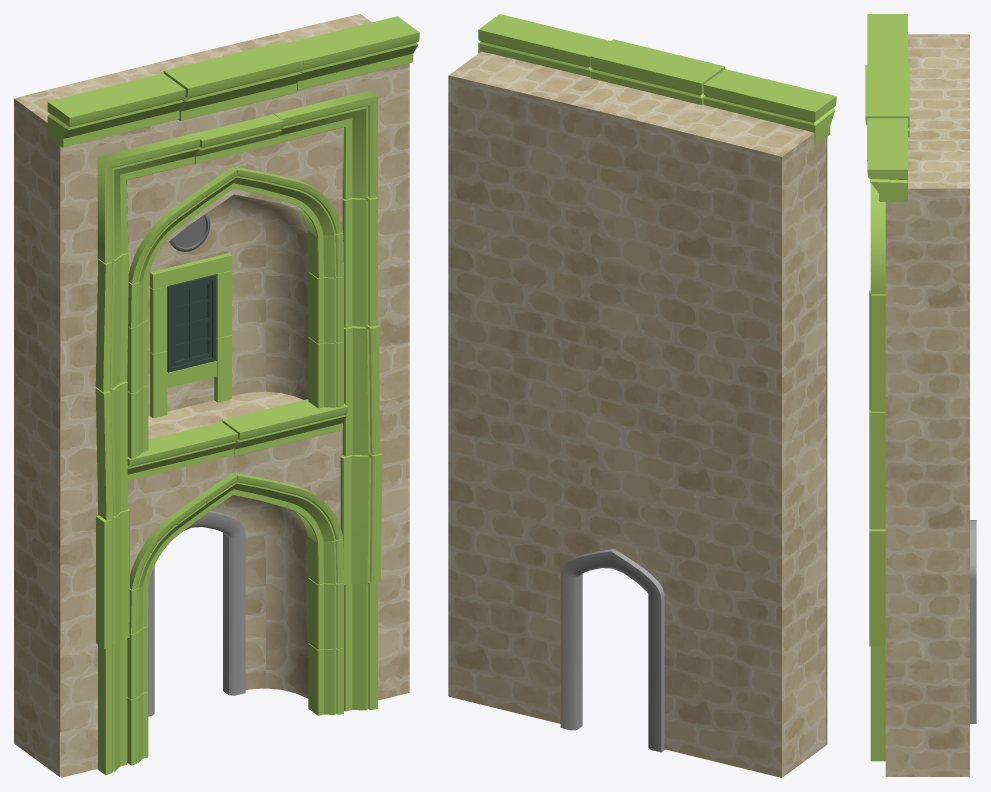
Rendered from SM_wall_large_05.fbx.
3 renders of one model, left to right at view 1: azimuth 30°, elevation 25°; view 2: azimuth 150°, elevation 25°; view 3: azimuth 270°, elevation 25°, orthographic. The views are drawn at different scales.
Visible parts, largest first — view 1: Object33155; view 2: Object33155; view 3: Object33155.
Part boxes in pixels (x1,y1,x2,y2): Object33155: [14, 14, 419, 777]; Object33155: [448, 14, 836, 777]; Object33155: [865, 14, 976, 776].
Size of the model in its own units: 297 by 543 by 89.86.
